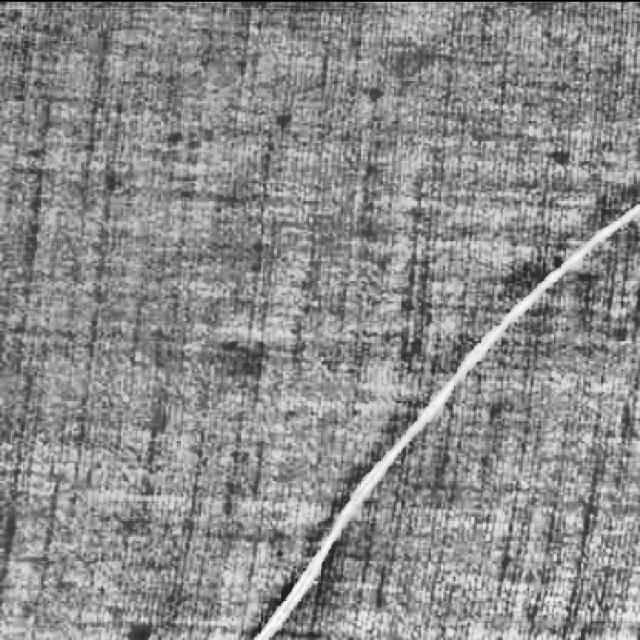objects: (239, 197, 640, 640)
